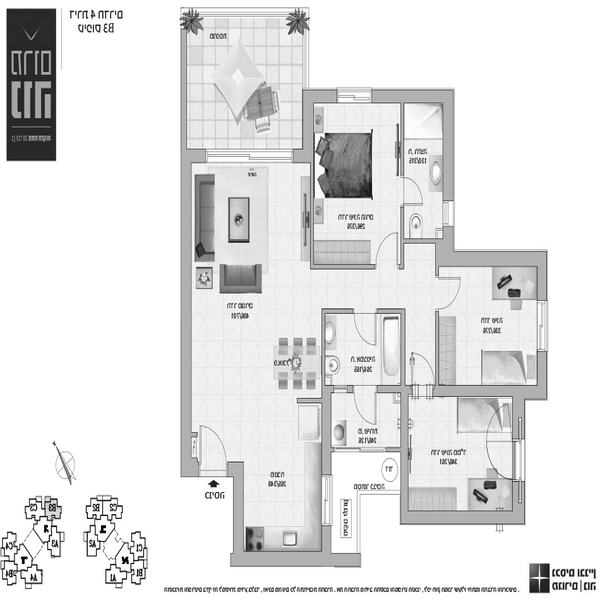door: (351, 381, 385, 434), (194, 424, 227, 478), (348, 310, 381, 353), (437, 271, 467, 317), (395, 174, 434, 209), (376, 228, 404, 274), (406, 343, 433, 386)
room: (177, 144, 331, 480), (297, 81, 457, 274), (397, 387, 526, 534), (434, 243, 548, 403), (227, 449, 336, 570), (320, 303, 406, 395), (317, 378, 409, 454)
wall: (177, 145, 195, 478), (234, 548, 365, 574), (397, 507, 527, 528), (438, 87, 460, 203), (399, 384, 415, 525), (430, 383, 545, 401), (229, 458, 247, 565), (451, 250, 549, 269), (372, 87, 456, 108), (397, 304, 416, 384), (320, 305, 334, 385), (323, 382, 335, 475), (301, 87, 315, 160), (307, 164, 317, 266), (309, 258, 375, 273), (507, 397, 529, 441), (397, 232, 437, 253), (313, 521, 336, 556), (397, 103, 408, 176), (301, 86, 339, 105), (398, 202, 408, 268), (533, 270, 553, 299), (320, 303, 353, 320), (437, 228, 452, 264), (372, 303, 403, 320), (537, 349, 547, 399), (510, 479, 525, 506), (372, 383, 402, 396)
window: (201, 146, 296, 164), (534, 300, 551, 350), (332, 84, 370, 106), (323, 474, 335, 523)
